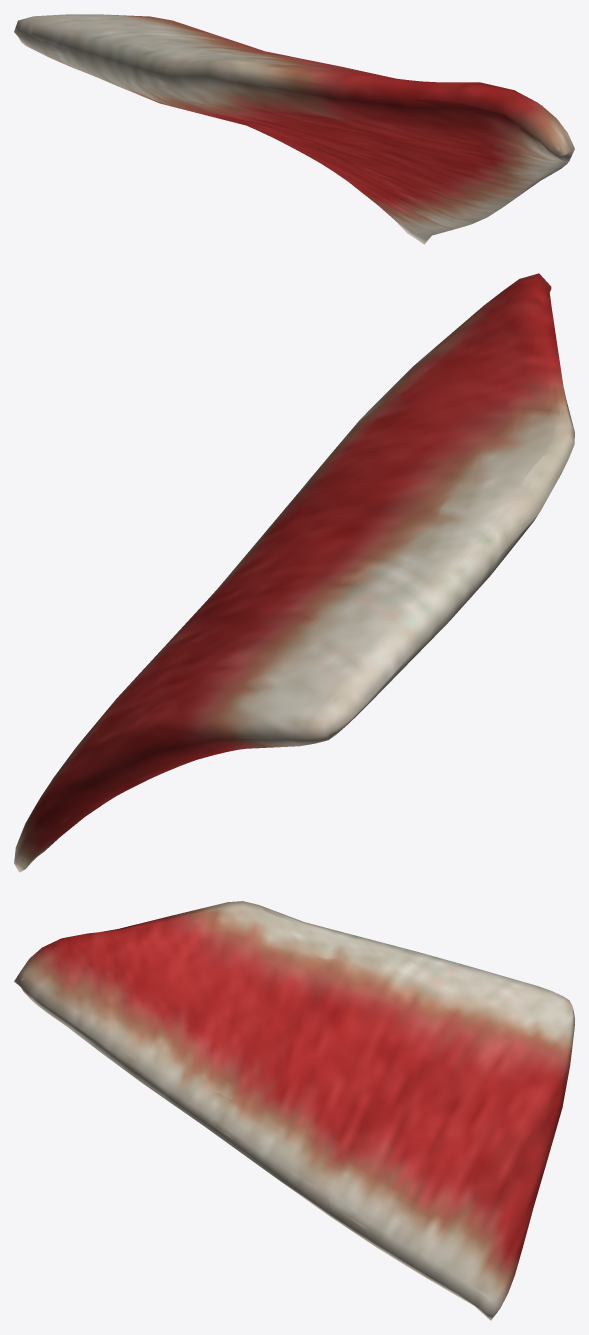
The model's file is L Gluteus Medius.fbx.
The picture shows the model from 3 angles, top to bottom: view 1: azimuth 30°, elevation 25°; view 2: azimuth 150°, elevation 25°; view 3: azimuth 270°, elevation 25°; orthographic projection. The views are drawn at different scales.
Parts seen in each view (by area): view 1: L Gluteus Medius, L Gluteus Medius low, L Gluteus Medius high; view 2: L Gluteus Medius, L Gluteus Medius low, L Gluteus Medius high; view 3: L Gluteus Medius, L Gluteus Medius low, L Gluteus Medius high.
Boxes of the visible parts, x1,y1,x2,y2 form: L Gluteus Medius: [14, 14, 574, 244]; L Gluteus Medius low: [18, 14, 572, 243]; L Gluteus Medius high: [29, 14, 566, 235]; L Gluteus Medius: [14, 273, 574, 872]; L Gluteus Medius low: [16, 275, 572, 871]; L Gluteus Medius high: [21, 278, 571, 861]; L Gluteus Medius: [14, 901, 574, 1320]; L Gluteus Medius low: [16, 902, 574, 1320]; L Gluteus Medius high: [20, 907, 567, 1308].
Bounding box in the file's own units: 3.07 × 3.17 × 5.26.
